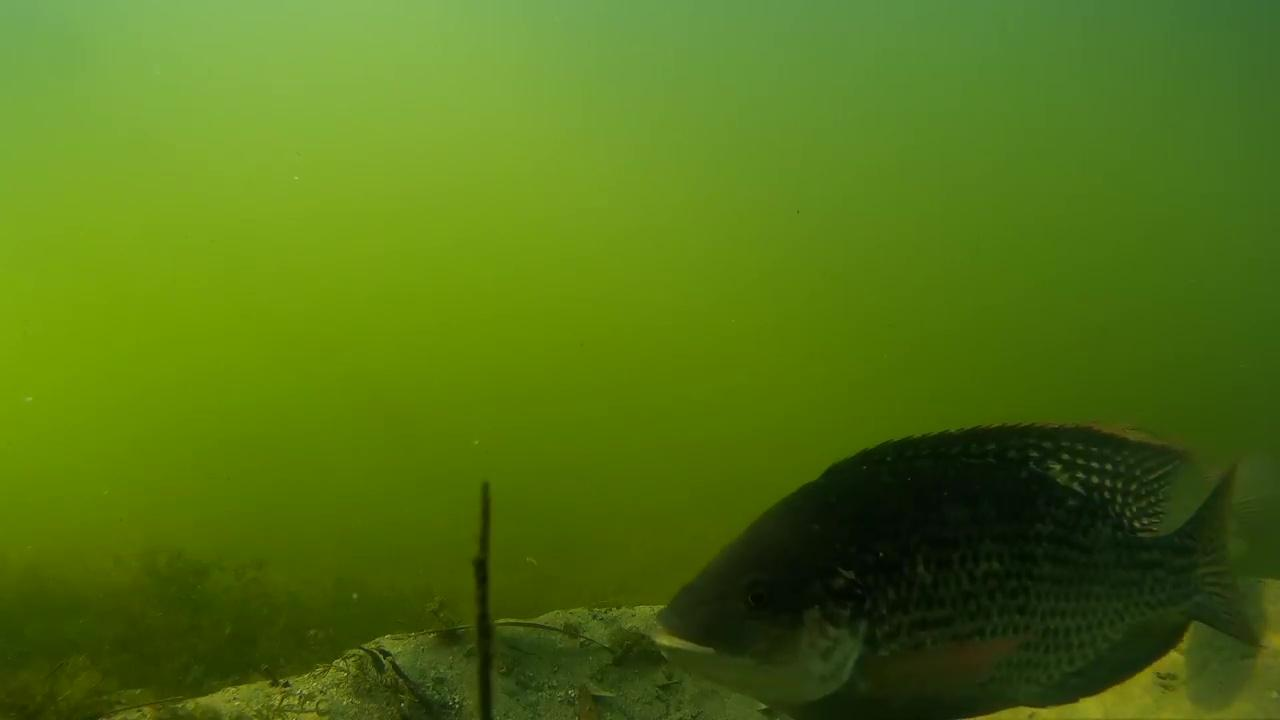Tilapia: (651, 418, 1280, 720)
